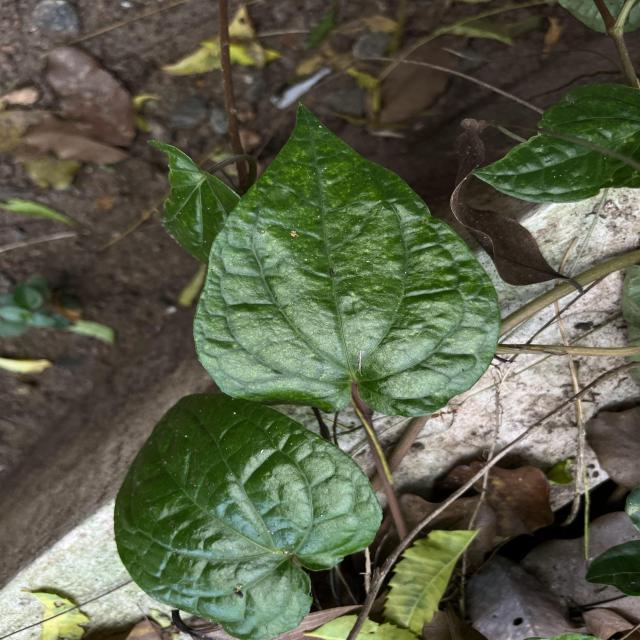Piper betle: (187, 99, 506, 419)
